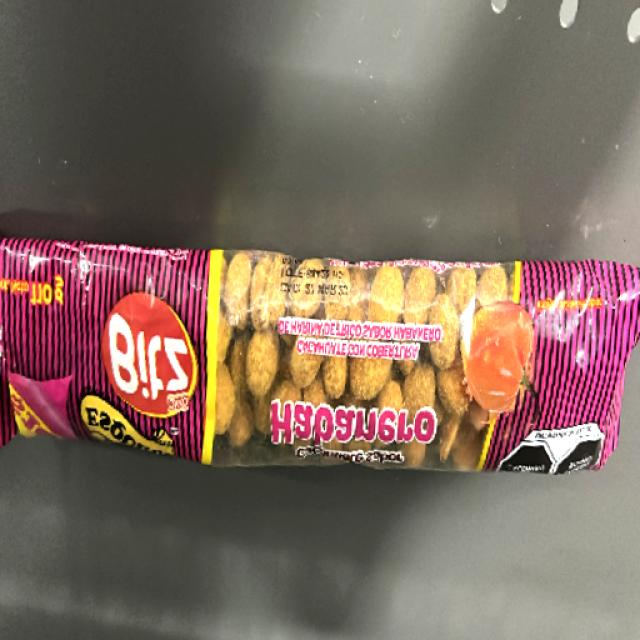bitzHabanero: (9, 249, 622, 470)
